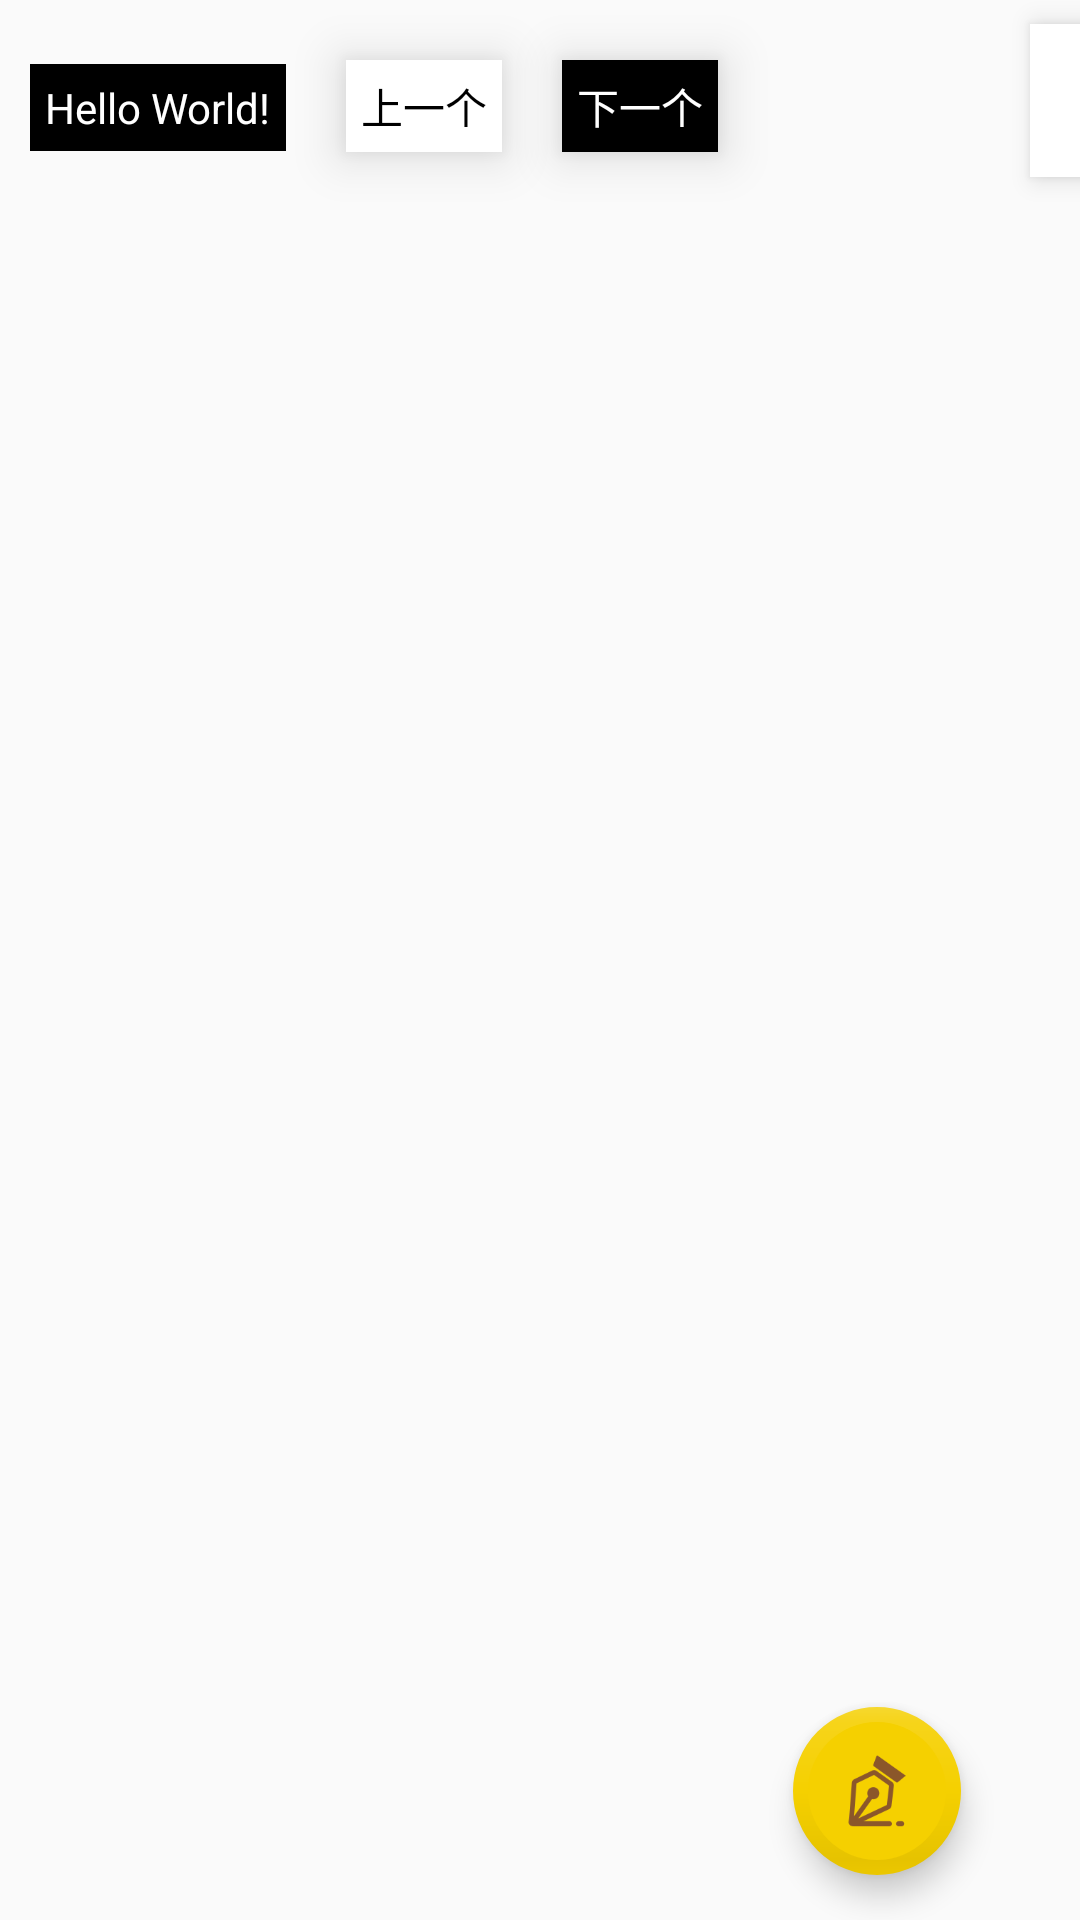

Named icons in this screenshot (1080×1920) and their centers, point (x, y):
host publish: point (877, 1791)
